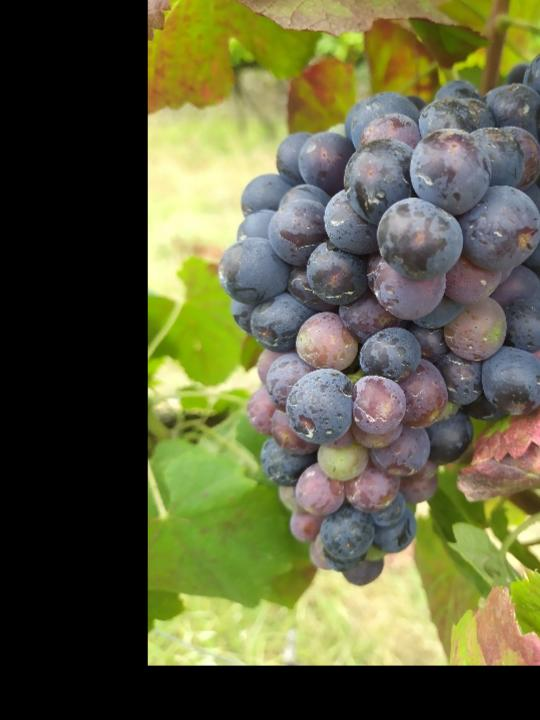grape: (216, 41, 540, 590)
